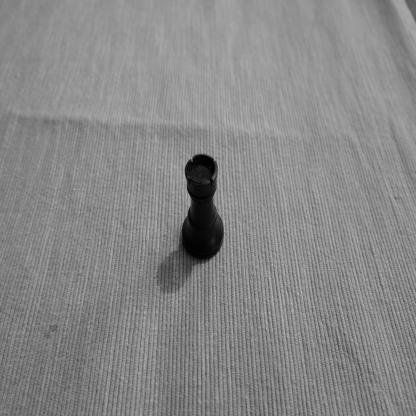black-rook: (180, 153, 224, 261)
